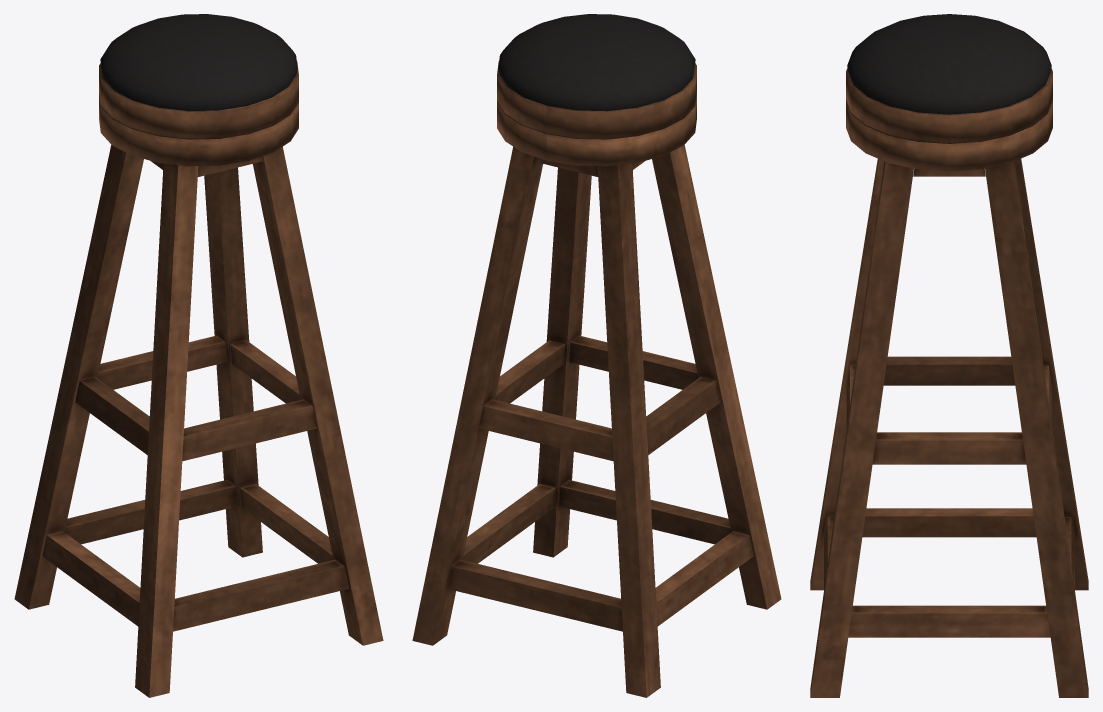
3 renders of one model, left to right at view 1: azimuth 30°, elevation 25°; view 2: azimuth 150°, elevation 25°; view 3: azimuth 270°, elevation 25°, orthographic. The views are drawn at different scales.
Visible parts, largest first — view 1: Stool_Q; view 2: Stool_Q; view 3: Stool_Q.
Part boxes in pixels (x1,y1,x2,y2): Stool_Q: (14,14,383,697); Stool_Q: (412,14,781,697); Stool_Q: (810,14,1088,697).
Size of the model in its own units: 0.3483 by 0.8341 by 0.3473.
1 material, 1 textured.
